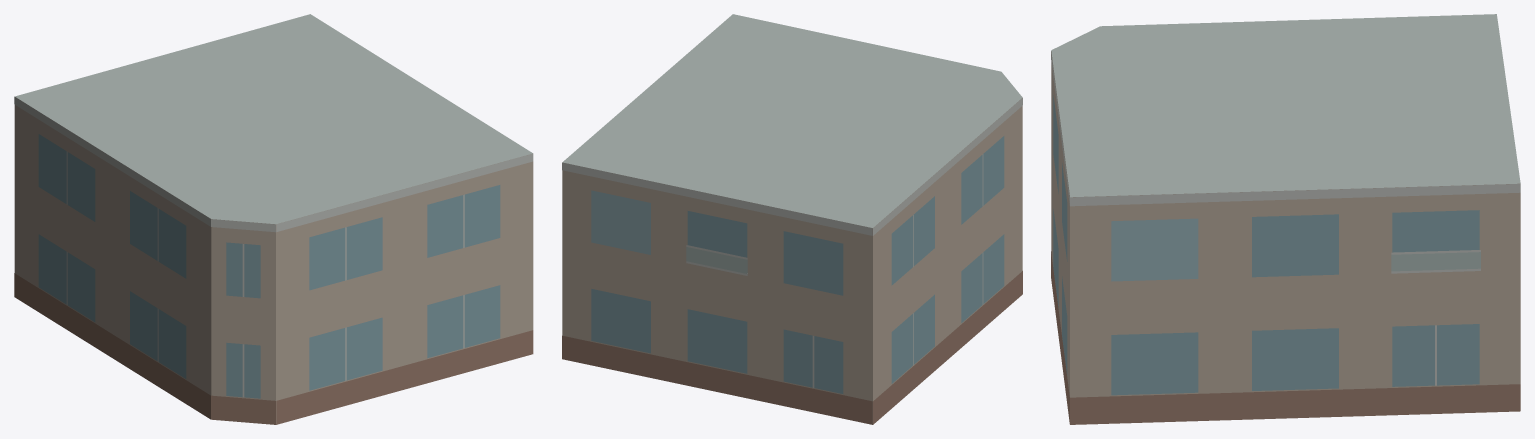
The model's file is survey-upis-32804407.glb.
3 views of the same model, side by side, from view 1: azimuth 30°, elevation 25°; view 2: azimuth 150°, elevation 25°; view 3: azimuth 270°, elevation 25° (orthographic). The views are drawn at different scales.
Visible parts, largest first — view 1: survey-upis-32804407.tmp; view 2: survey-upis-32804407.tmp; view 3: survey-upis-32804407.tmp.
Boxes of the visible parts, box(x1,y1,x2,y2) form: survey-upis-32804407.tmp: box(14, 14, 533, 424); survey-upis-32804407.tmp: box(562, 14, 1022, 424); survey-upis-32804407.tmp: box(1051, 14, 1520, 424).
Size of the model in its own units: 10.54 by 6.1 by 11.41.
